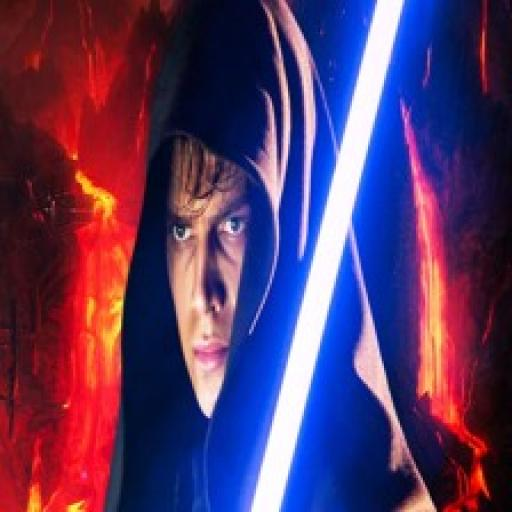human: (84, 1, 429, 512)
lightsaber: (237, 0, 410, 512)
